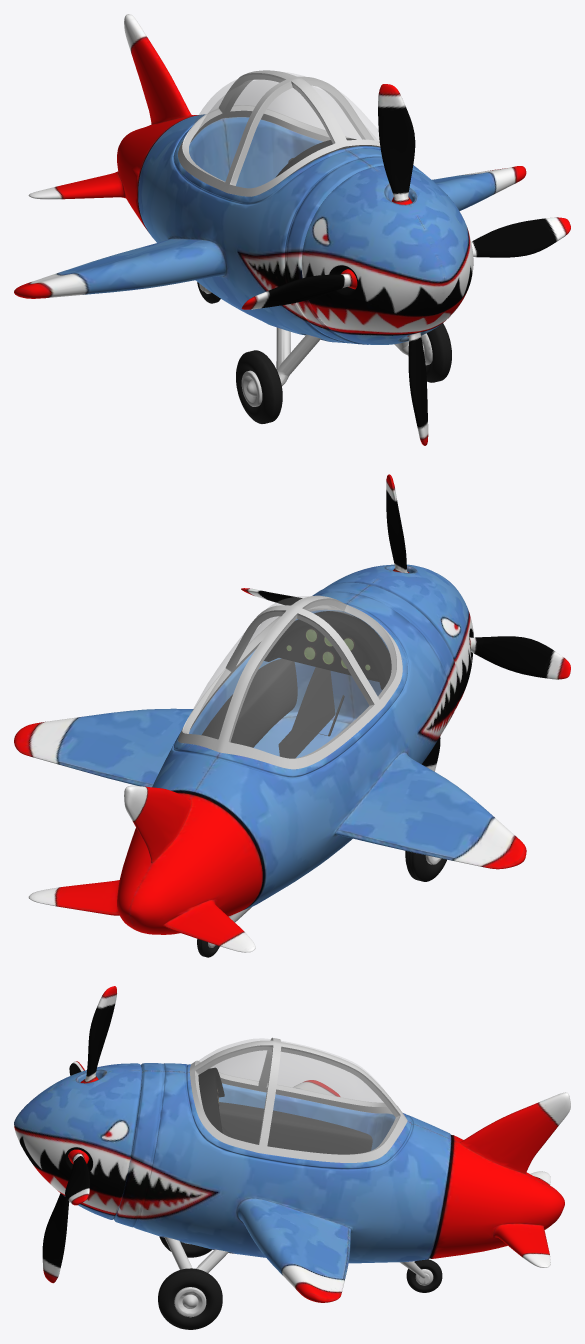
3 renders of one model, top to bottom at view 1: azimuth 30°, elevation 25°; view 2: azimuth 150°, elevation 25°; view 3: azimuth 270°, elevation 25°, orthographic. The views are drawn at different scales.
Visible parts, largest first — view 1: Body_Plane Body_0, Nosecone_Plane Body_0, Windshield_Cockpit glass_0, ZF_prop, Windshield.001_Cromed parts_0, Wheel_front_Wheel_0, Struts_front_Cromed parts_0, Wheel_front_Cromed parts_0; view 2: Body_Plane Body_0, Windshield_Cockpit glass_0, Windshield.001_Cromed parts_0, Cockpit_panels_Plane panels_0, Nosecone_Plane Body_0, ZF_prop, Cockpit_Control_panel_Plane Body_0, Wheel_front_Wheel_0; view 3: Body_Plane Body_0, Windshield_Cockpit glass_0, Nosecone_Plane Body_0, Windshield.001_Cromed parts_0, Cockpit_panels_Plane panels_0, ZF_prop, Wheel_front_Wheel_0, Cockpit_Control_panel_Plane Body_0, Struts_front_Cromed parts_0, Wheel_front_Cromed parts_0, Wheel_back_Wheel_0.
Boxes of the visible parts, <box> form: Body_Plane Body_0: <box>14,14,526,344</box>; Nosecone_Plane Body_0: <box>301,165,473,344</box>; Windshield_Cockpit glass_0: <box>183,72,379,187</box>; ZF_prop: <box>241,84,570,445</box>; Windshield.001_Cromed parts_0: <box>178,70,380,196</box>; Wheel_front_Wheel_0: <box>236,323,451,423</box>; Struts_front_Cromed parts_0: <box>276,327,423,385</box>; Wheel_front_Cromed parts_0: <box>241,333,432,406</box>; Body_Plane Body_0: <box>14,582,526,952</box>; Windshield_Cockpit glass_0: <box>183,596,395,758</box>; Windshield.001_Cromed parts_0: <box>178,595,402,769</box>; Cockpit_panels_Plane panels_0: <box>201,658,344,758</box>; Nosecone_Plane Body_0: <box>324,564,473,708</box>; ZF_prop: <box>241,474,570,771</box>; Cockpit_Control_panel_Plane Body_0: <box>264,611,391,689</box>; Wheel_front_Wheel_0: <box>405,851,446,881</box>; Body_Plane Body_0: <box>114,1063,570,1302</box>; Windshield_Cockpit glass_0: <box>196,1038,398,1154</box>; Nosecone_Plane Body_0: <box>14,1063,142,1219</box>; Windshield.001_Cromed parts_0: <box>189,1037,407,1162</box>; Cockpit_panels_Plane panels_0: <box>219,1102,372,1154</box>; ZF_prop: <box>42,986,116,1283</box>; Wheel_front_Wheel_0: <box>158,1236,222,1329</box>; Cockpit_Control_panel_Plane Body_0: <box>198,1067,224,1133</box>; Struts_front_Cromed parts_0: <box>164,1237,228,1272</box>; Wheel_front_Cromed parts_0: <box>174,1243,206,1317</box>; Wheel_back_Wheel_0: <box>406,1259,442,1292</box>.
Size of the model in its own units: 3.56 by 2.34 by 3.87.
8 materials, 2 textured.
